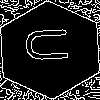U: (25, 25, 79, 64)
